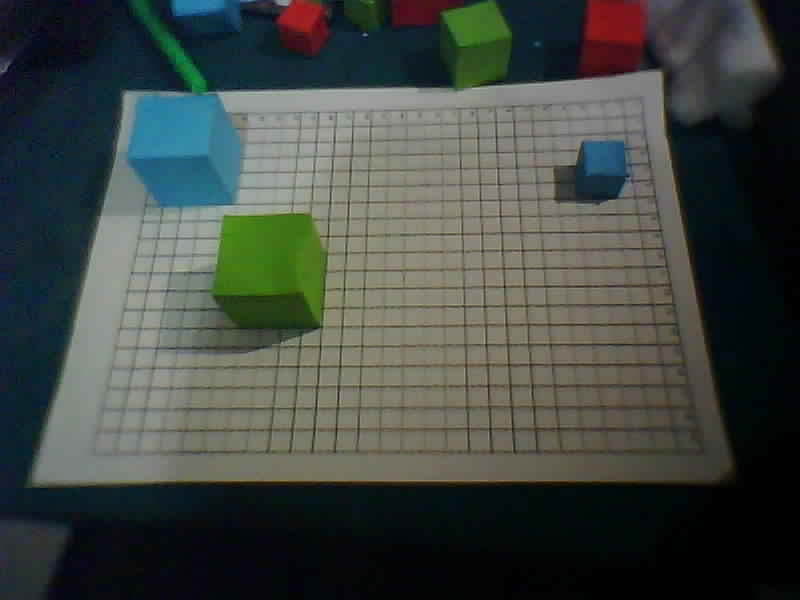LB: (90, 451, 98, 457)
LT: (152, 111, 160, 117)
RB: (700, 449, 708, 455)
RT: (637, 95, 645, 101)
